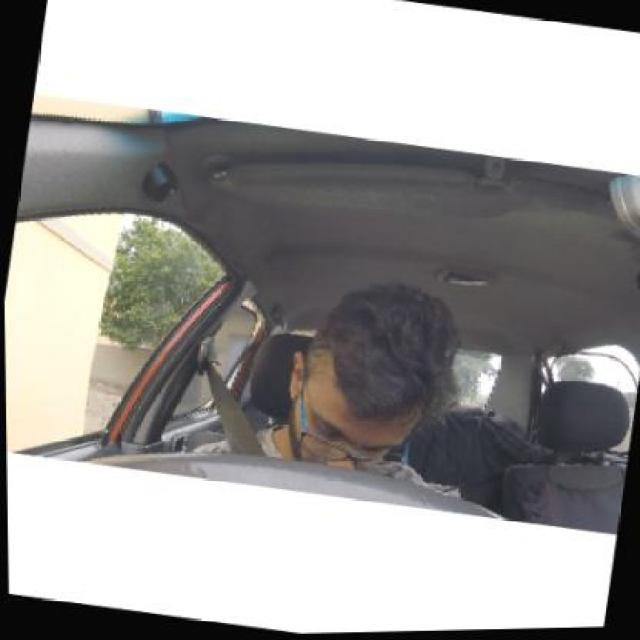drowsy: (290, 276, 467, 492)
